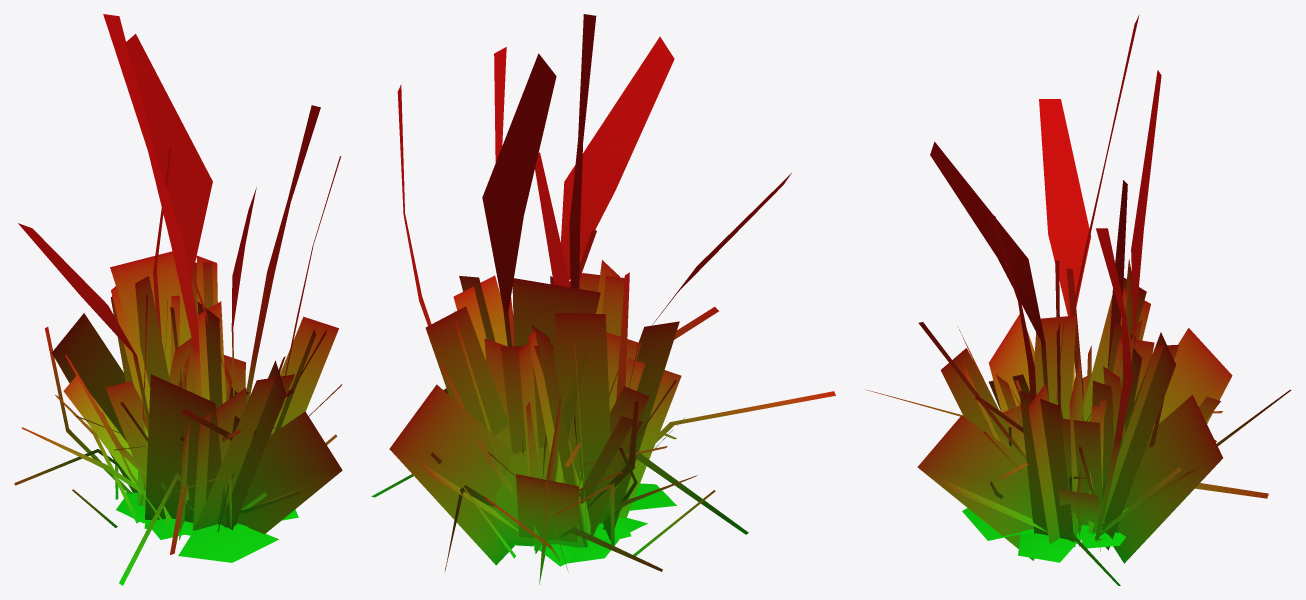
File: Var1_LOD3.fbx
The picture shows the model from 3 angles, left to right: view 1: azimuth 30°, elevation 25°; view 2: azimuth 150°, elevation 25°; view 3: azimuth 270°, elevation 25°; orthographic projection. The views are drawn at different scales.
Parts seen in each view (by area): view 1: _97af_Var1_LOD3; view 2: _97af_Var1_LOD3; view 3: _97af_Var1_LOD3.
Part boxes in pixels (x1=…): _97af_Var1_LOD3: x1=14, y1=14, x2=342, y2=585; _97af_Var1_LOD3: x1=371, y1=14, x2=835, y2=584; _97af_Var1_LOD3: x1=867, y1=15, x2=1291, y2=585.
Bounding box in the file's own units: 42.3 × 63.03 × 47.94.
